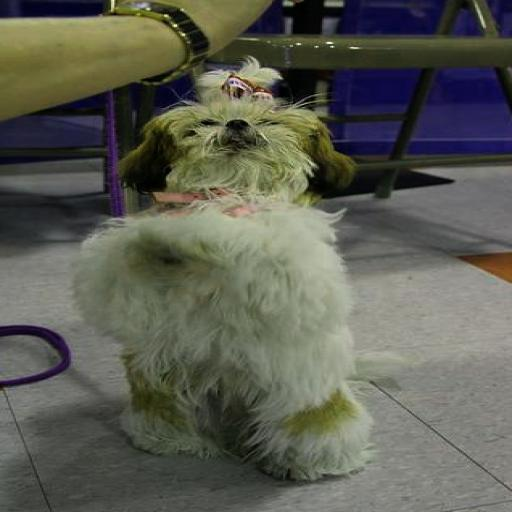dog_face: (114, 96, 369, 191)
